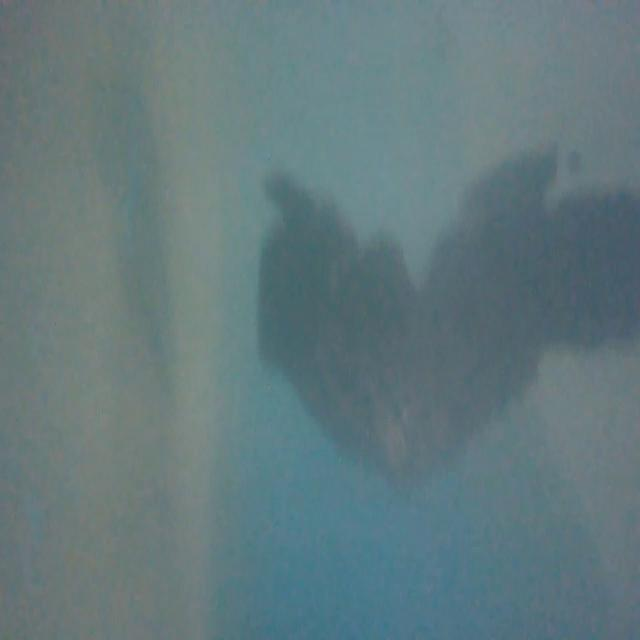plastic bags: (251, 137, 640, 491)
